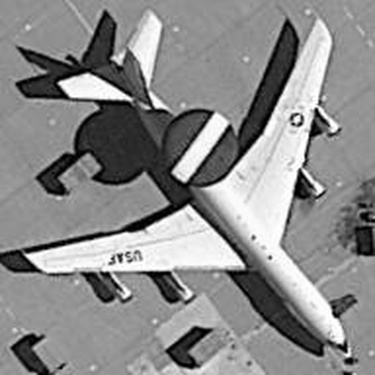airplane: (18, 6, 361, 359)
